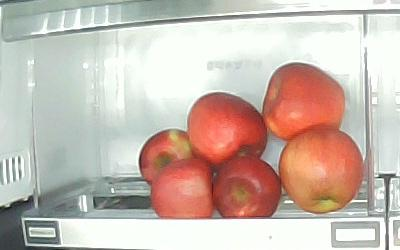apple: (278, 127, 363, 214), (186, 91, 267, 172), (262, 62, 345, 141), (212, 155, 281, 218), (151, 158, 214, 219), (138, 128, 195, 186)
